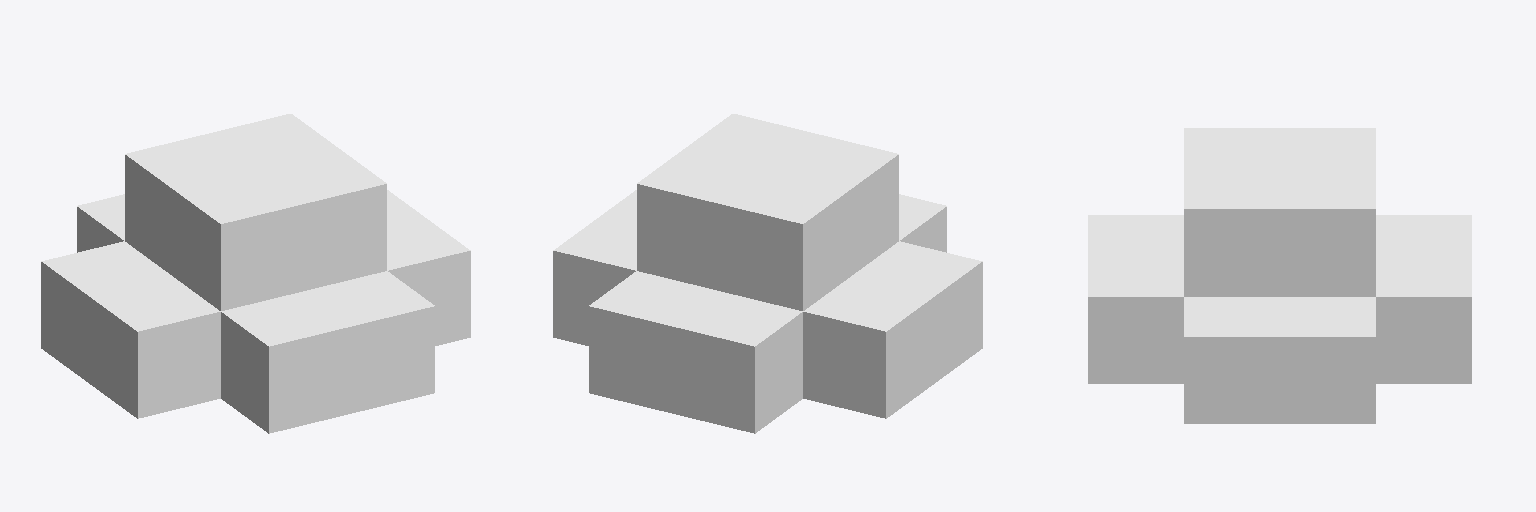
File: bush_0.obj
The picture shows the model from 3 angles: view 1: azimuth 30°, elevation 25°; view 2: azimuth 150°, elevation 25°; view 3: azimuth 270°, elevation 25°; orthographic projection.
Parts seen in each view (by area): view 1: bush_0; view 2: bush_0; view 3: bush_0.
Part boxes in pixels (x1,y1,x2,y2): bush_0: (41,114,470,433); bush_0: (553,114,982,433); bush_0: (1088,128,1471,423).
Size of the model in its own units: 4 by 2 by 4.